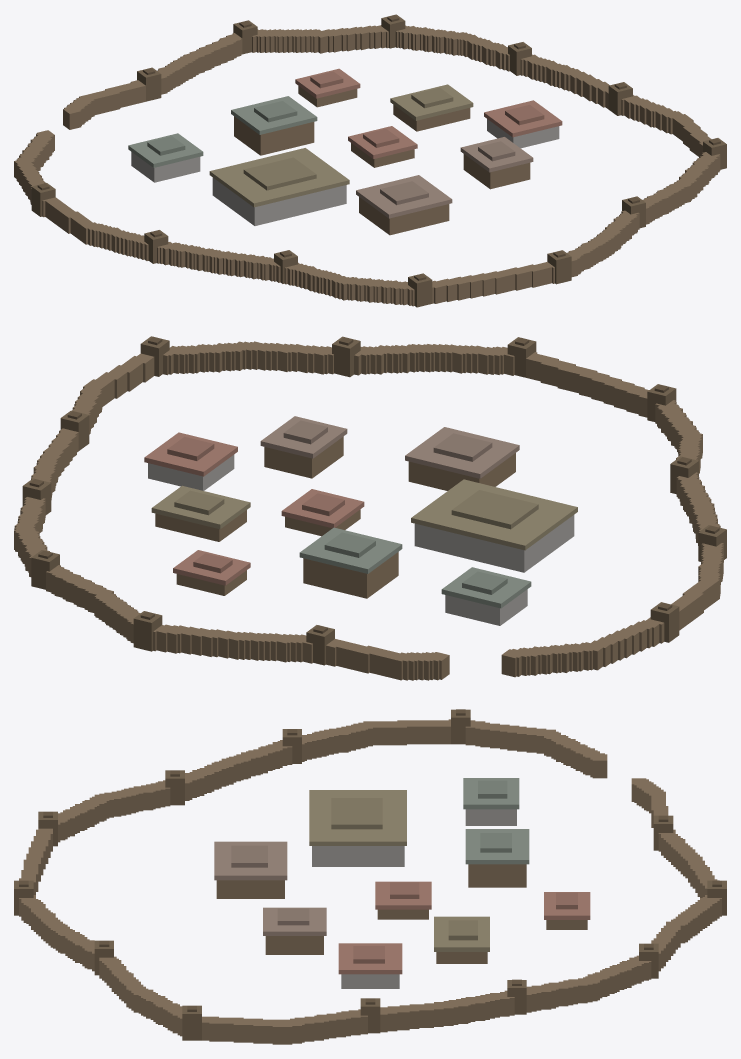
The model's file is ciudad_guarida_bandidos_1285_1380_01.glb.
3 renders of one model, top to bottom at view 1: azimuth 30°, elevation 25°; view 2: azimuth 150°, elevation 25°; view 3: azimuth 270°, elevation 25°, orthographic. The views are drawn at different scales.
Visible parts, largest first — view 1: ciudad_guarida_bandidos_1285_1380; view 2: ciudad_guarida_bandidos_1285_1380; view 3: ciudad_guarida_bandidos_1285_1380.
Boxes of the visible parts, left/top/right/bottom form: ciudad_guarida_bandidos_1285_1380: left=14, top=14, right=726, bottom=307; ciudad_guarida_bandidos_1285_1380: left=14, top=336, right=726, bottom=680; ciudad_guarida_bandidos_1285_1380: left=14, top=709, right=726, bottom=1044.
Bounding box in the file's own units: 74.75 × 3.75 × 73.
